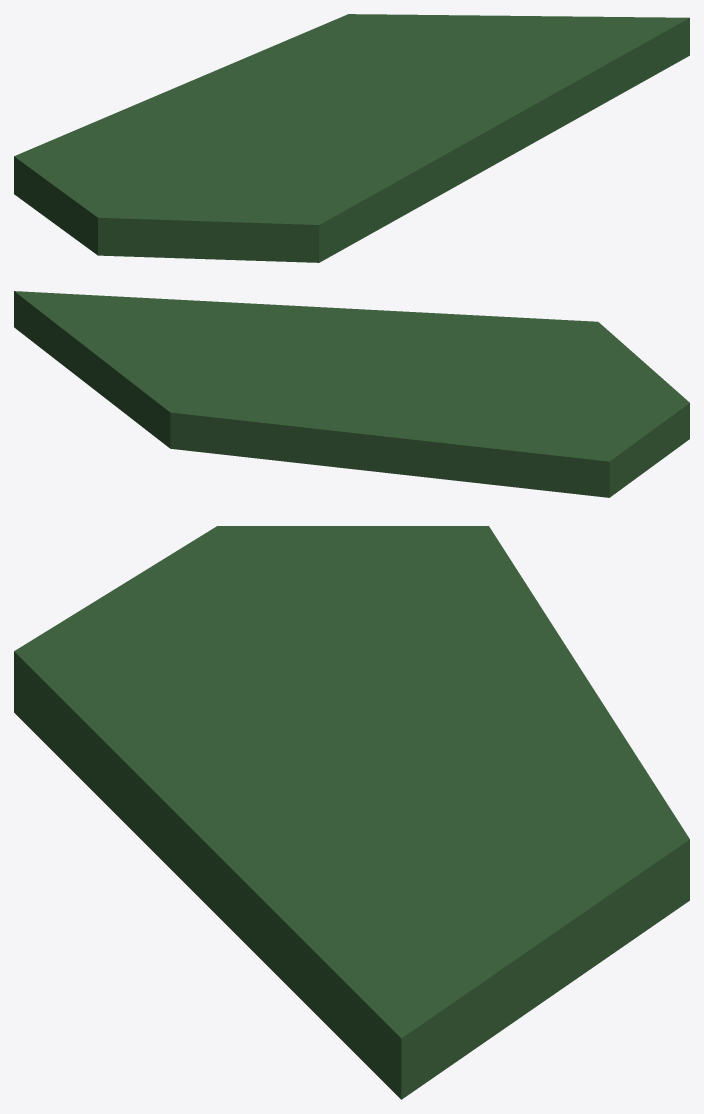
Rendered from x_proval_00_140_1_rmstrd.fbx.
3 renders of one model, top to bottom at view 1: azimuth 30°, elevation 25°; view 2: azimuth 150°, elevation 25°; view 3: azimuth 270°, elevation 25°, orthographic. The views are drawn at different scales.
Visible parts, largest first — view 1: x_proval_00_140_1_rmstrd1; view 2: x_proval_00_140_1_rmstrd1; view 3: x_proval_00_140_1_rmstrd1.
Part boxes in pixels (x1,y1,x2,y2): x_proval_00_140_1_rmstrd1: (14, 14, 689, 262); x_proval_00_140_1_rmstrd1: (14, 291, 689, 497); x_proval_00_140_1_rmstrd1: (14, 526, 689, 1099).
Bounding box in the file's own units: 3.59 × 0.2 × 2.
